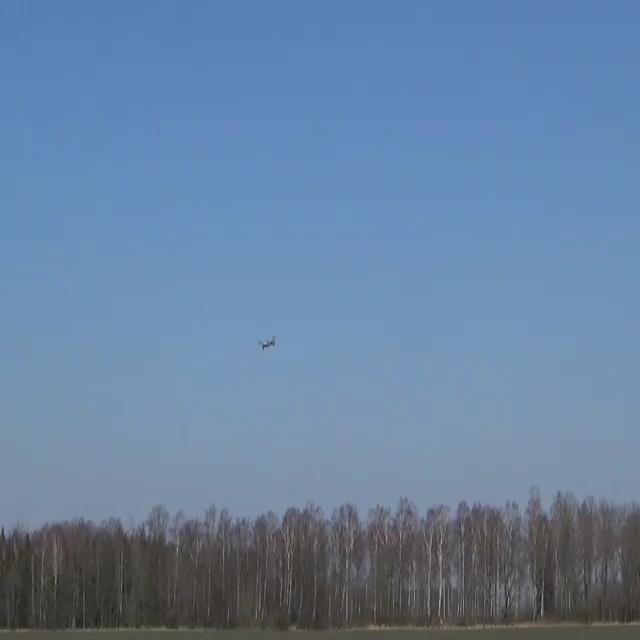drone: (257, 334, 276, 350)
